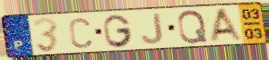3: (32, 16, 62, 53)
A: (208, 7, 247, 43)
C: (67, 16, 94, 50)
G: (102, 13, 135, 49)
J: (140, 12, 165, 46)
Q: (176, 8, 209, 45)
